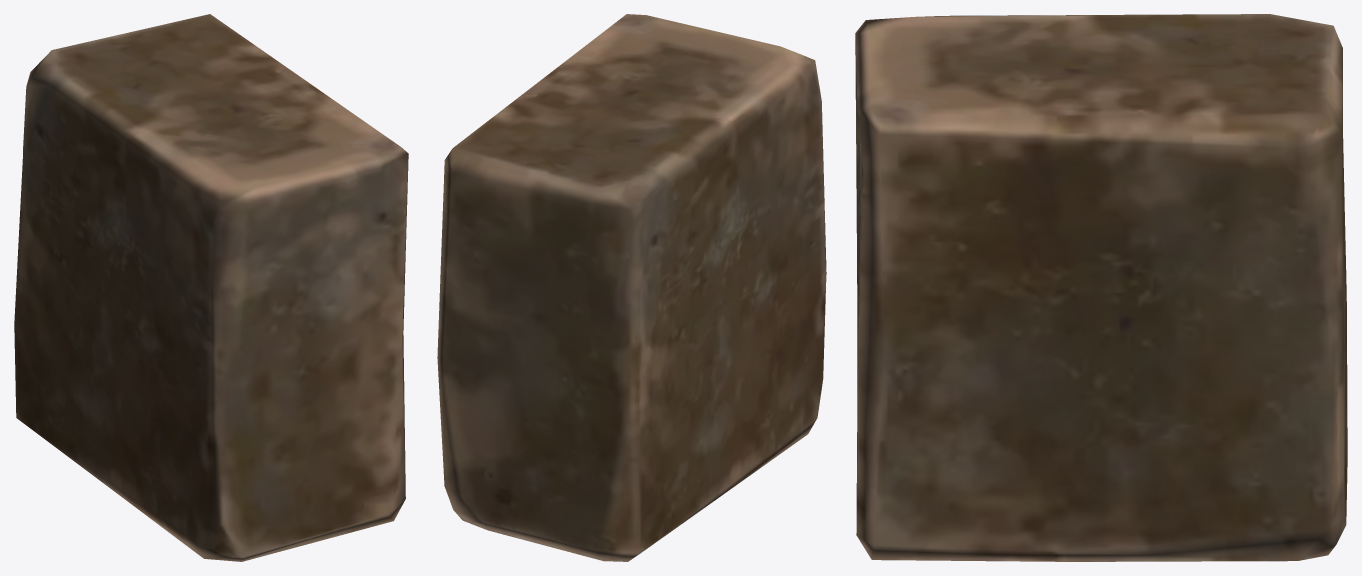
The picture shows the model from 3 angles, left to right: view 1: azimuth 30°, elevation 25°; view 2: azimuth 150°, elevation 25°; view 3: azimuth 270°, elevation 25°; orthographic projection. The views are drawn at different scales.
Parts seen in each view (by area): view 1: SM_DK_Brick_10_LOD0; view 2: SM_DK_Brick_10_LOD0; view 3: SM_DK_Brick_10_LOD0.
Boxes of the visible parts, x1,y1,x2,y2 form: SM_DK_Brick_10_LOD0: [14, 14, 408, 561]; SM_DK_Brick_10_LOD0: [437, 14, 826, 561]; SM_DK_Brick_10_LOD0: [855, 14, 1347, 561].
Bounding box in the file's own units: 0.79 × 1.36 × 1.35.
1 material, 1 textured.
